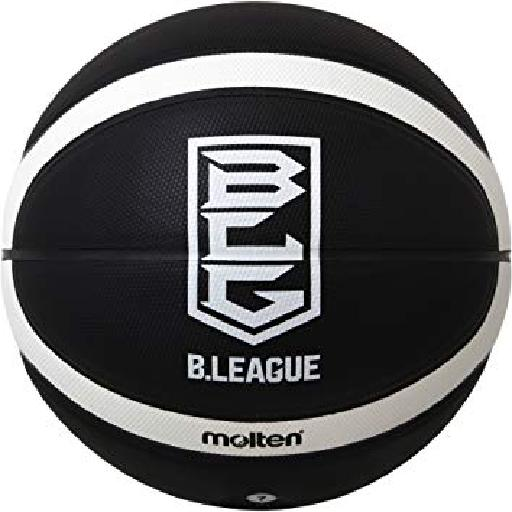ball: (1, 3, 508, 512)
